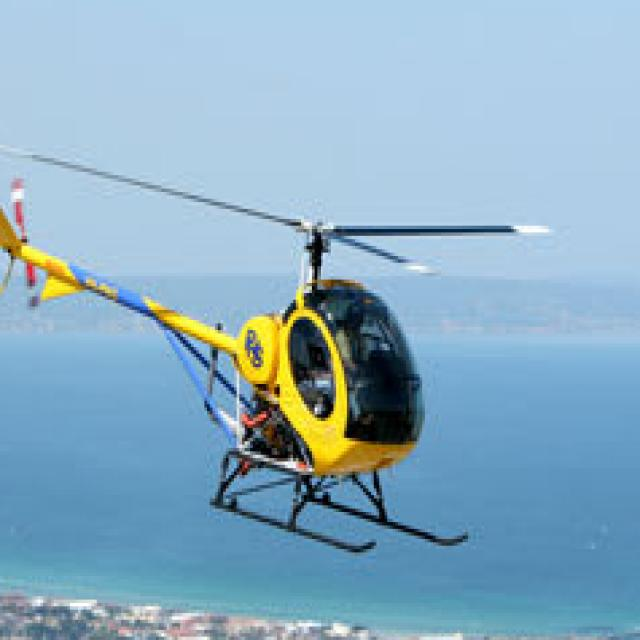helicopter: (1, 139, 558, 557)
